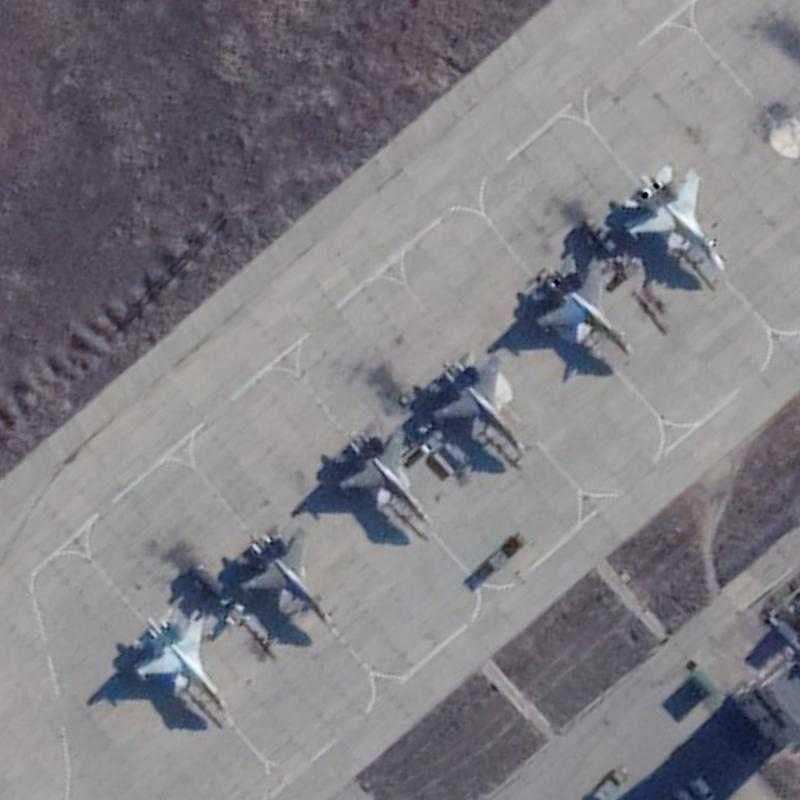A1: (425, 348, 531, 461), (620, 163, 727, 272), (532, 252, 636, 358), (237, 523, 334, 627), (335, 426, 434, 527), (132, 606, 226, 711)
